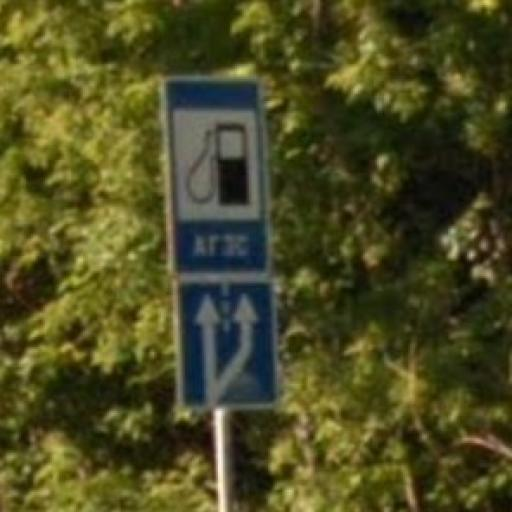traffic_sign: (160, 77, 273, 279)
